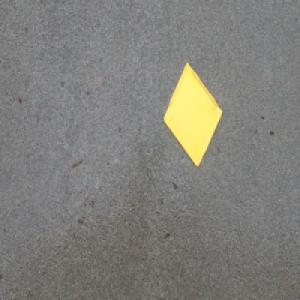PlasticPart: (162, 60, 224, 168)
